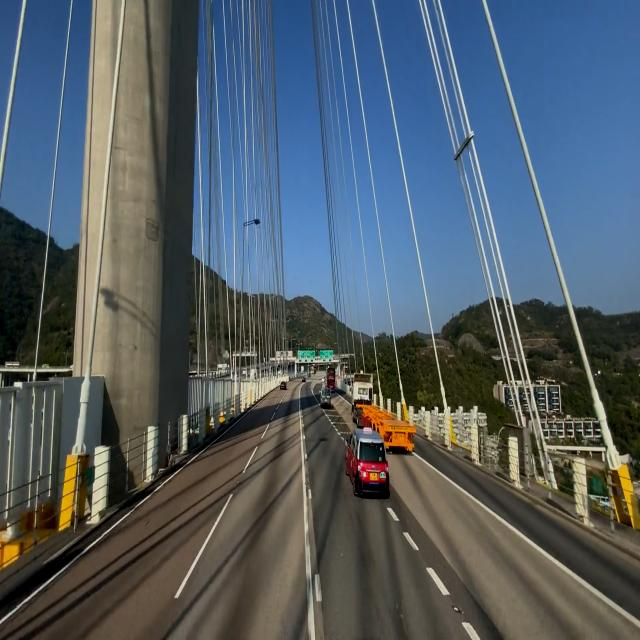Vehicle: (344, 378, 419, 452), (344, 422, 391, 504), (315, 384, 334, 412)
